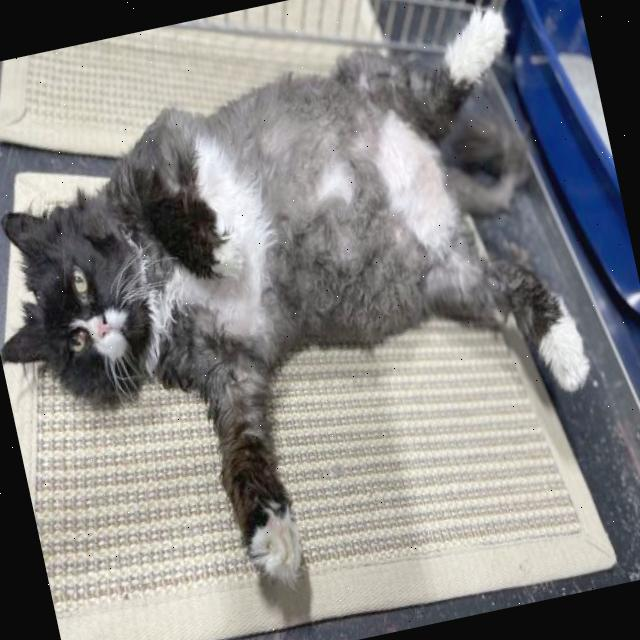persian_cat: (0, 159, 191, 440)
